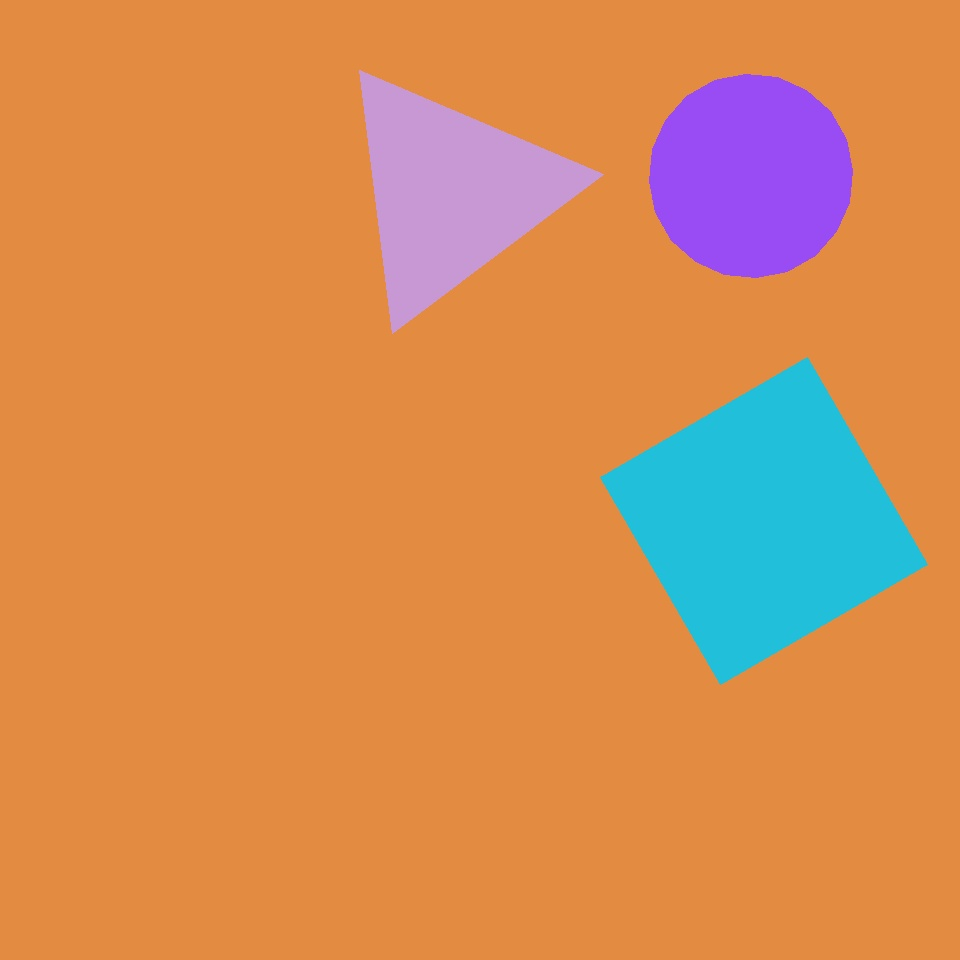circle: (330, 61, 574, 324), (355, 434, 536, 614)
square: (600, 358, 927, 684), (663, 308, 777, 421)
triangle: (249, 139, 539, 429), (650, 74, 852, 278)
